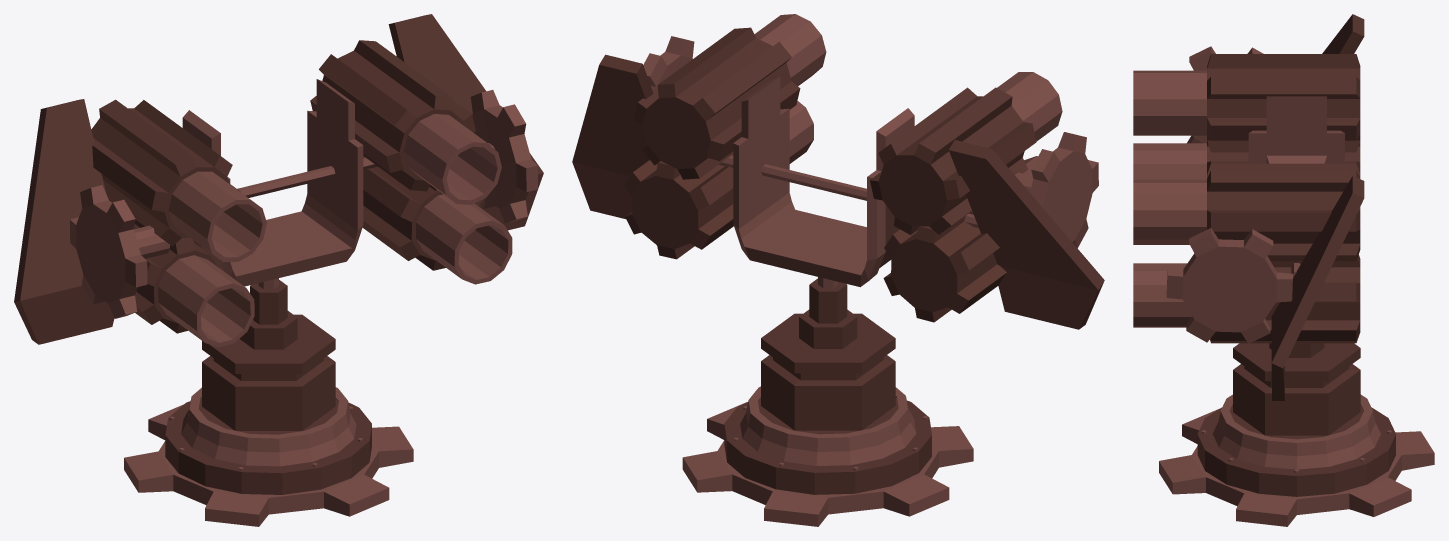
File: cannon_5.glb
3 views of the same model, side by side, from view 1: azimuth 30°, elevation 25°; view 2: azimuth 150°, elevation 25°; view 3: azimuth 270°, elevation 25° (orthographic). The views are drawn at different scales.
Visible parts, largest first — view 1: _MeshInstance3D_146, _MeshInstance3D_147, _MeshInstance3D_145; view 2: _MeshInstance3D_146, _MeshInstance3D_147, _MeshInstance3D_145; view 3: _MeshInstance3D_146, _MeshInstance3D_145, _MeshInstance3D_147.
Boxes of the visible parts, <box> form: _MeshInstance3D_146: <box>14,14,543,347</box>; _MeshInstance3D_147: <box>182,79,377,430</box>; _MeshInstance3D_145: <box>124,387,413,526</box>; _MeshInstance3D_146: <box>572,14,1104,329</box>; _MeshInstance3D_147: <box>719,77,978,430</box>; _MeshInstance3D_145: <box>682,386,973,526</box>; _MeshInstance3D_146: <box>1133,14,1364,400</box>; _MeshInstance3D_145: <box>1159,394,1434,526</box>; _MeshInstance3D_147: <box>1233,96,1360,435</box>.
Size of the model in its own units: 2.88 by 2.02 by 1.5.
